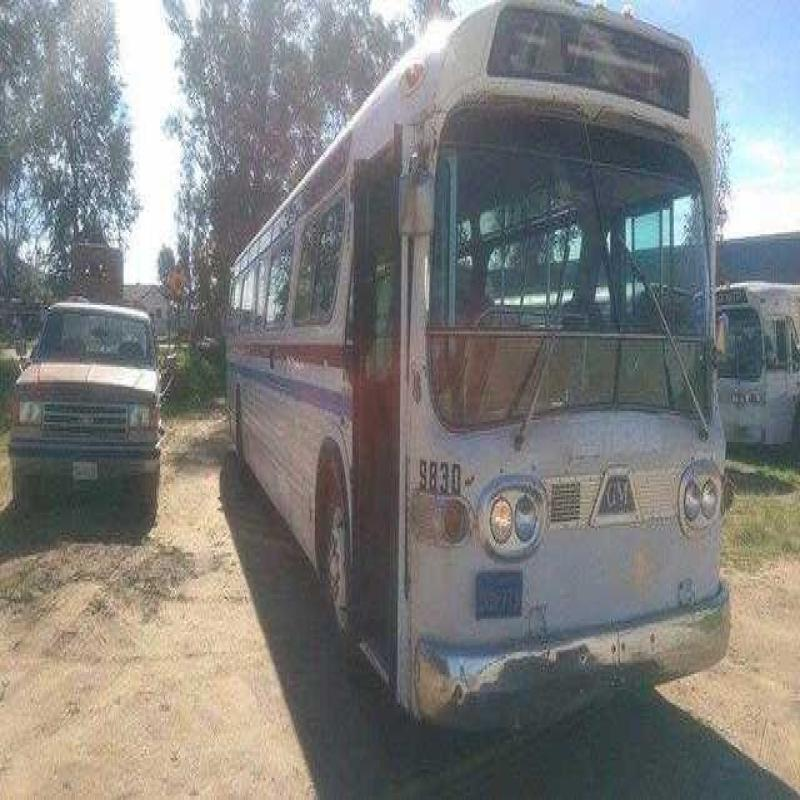bus: (229, 0, 756, 800)
